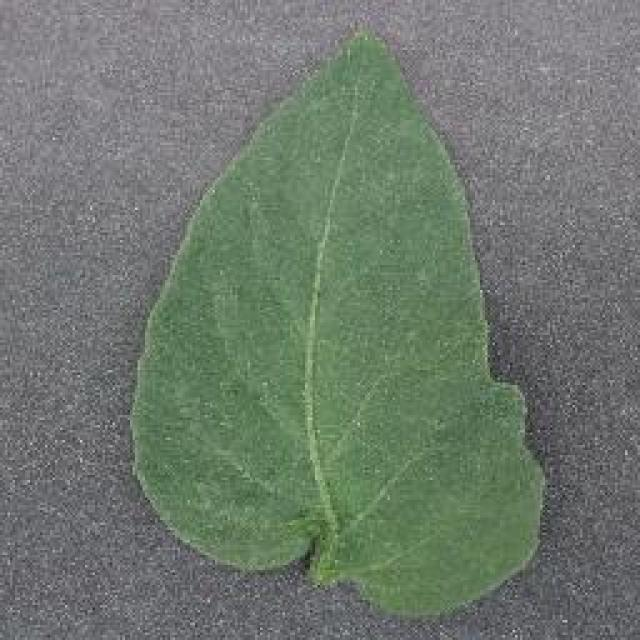Tomato_Healthy: (114, 24, 557, 617)
